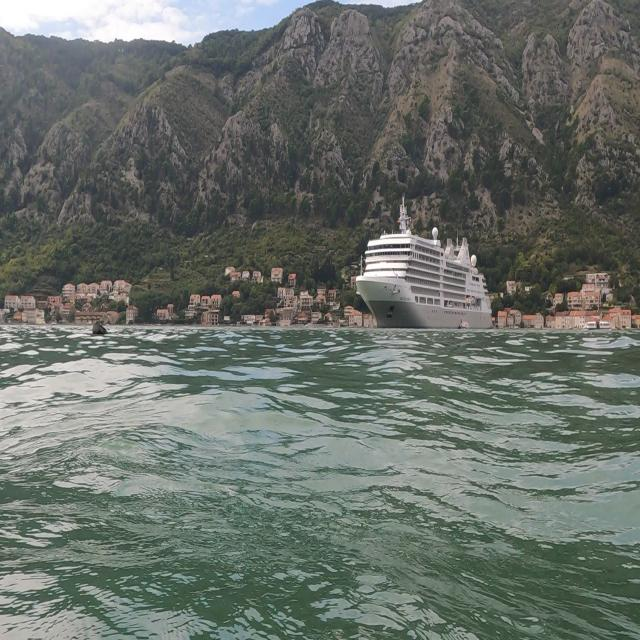boat: (353, 191, 495, 332)
buoy: (90, 313, 115, 349)
